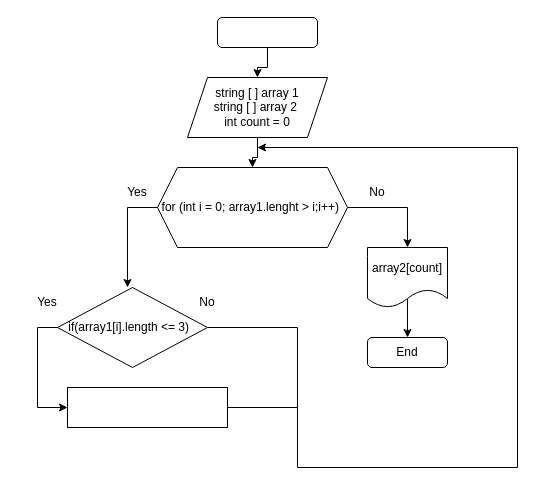
The diagram is 543 pixels wide and 493 high, and some of its shapes have lost their labels. Each missing label, with the centre of its shape:
array2[count] = array1[i] count++: point 147,407
Start: point 267,32
